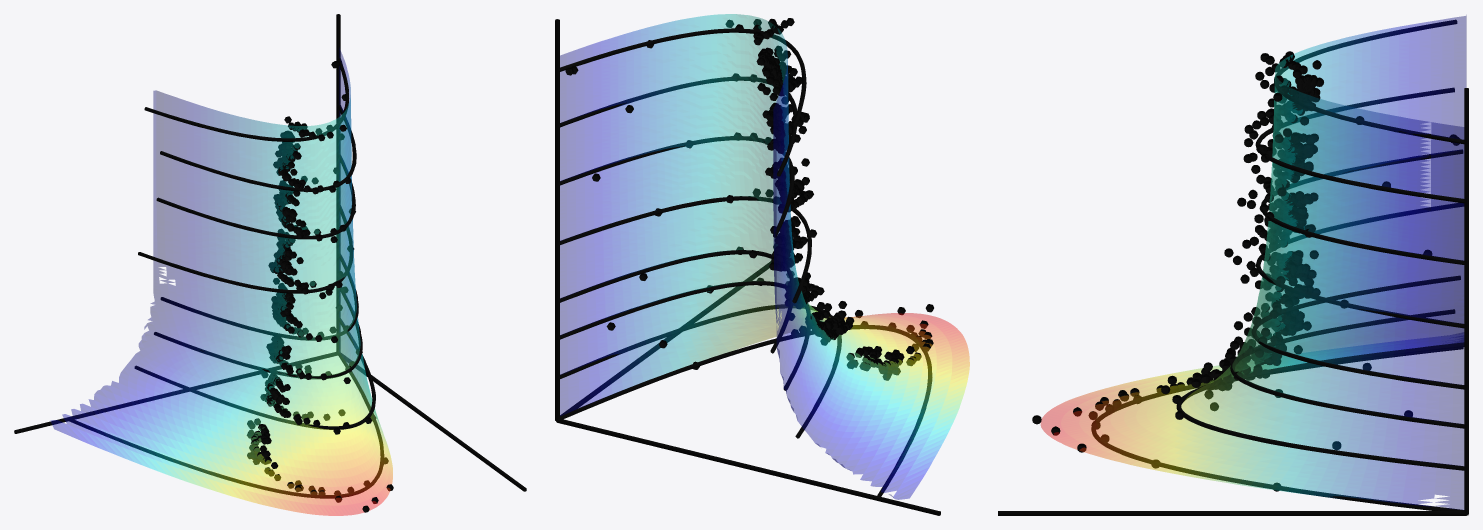
Rendered from pvt.obj.
3 renders of one model, left to right at view 1: azimuth 30°, elevation 25°; view 2: azimuth 150°, elevation 25°; view 3: azimuth 270°, elevation 25°, orthographic. The views are drawn at different scales.
Visible parts, largest first — view 1: pvt; view 2: pvt; view 3: pvt.
Part boxes in pixels (left/top/right/bottom): pvt: left=14, top=14, right=526, bottom=515; pvt: left=555, top=14, right=969, bottom=515; pvt: left=998, top=15, right=1468, bottom=515.
Size of the model in its own units: 1 by 1.01 by 1.
